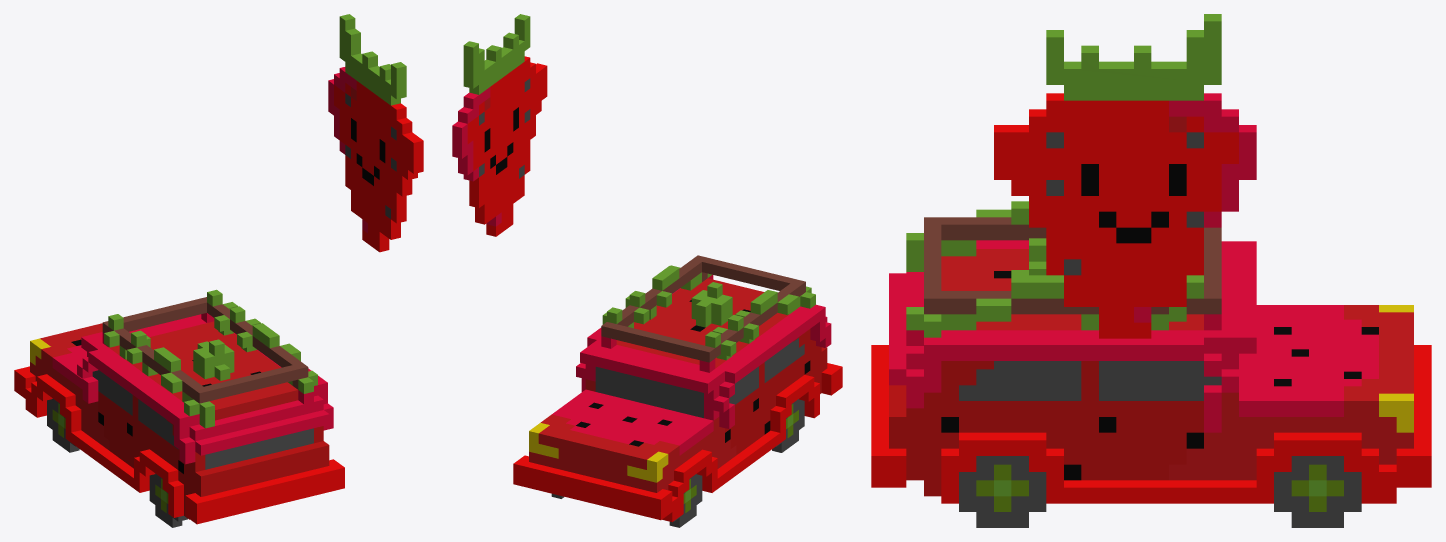
Rendered from car_04.glb.
The picture shows the model from 3 angles, left to right: view 1: azimuth 30°, elevation 25°; view 2: azimuth 150°, elevation 25°; view 3: azimuth 270°, elevation 25°; orthographic projection. The views are drawn at different scales.
Visible parts, largest first — view 1: ObjObject; view 2: ObjObject; view 3: ObjObject.
Boxes of the visible parts, x1=… form: ObjObject: x1=14, y1=14, x2=423, y2=527; ObjObject: x1=452, y1=14, x2=842, y2=527; ObjObject: x1=871, y1=14, x2=1431, y2=527.
Size of the model in its own units: 2.7 by 3.8 by 3.2.
Materials: 1 (1 with a texture image).
